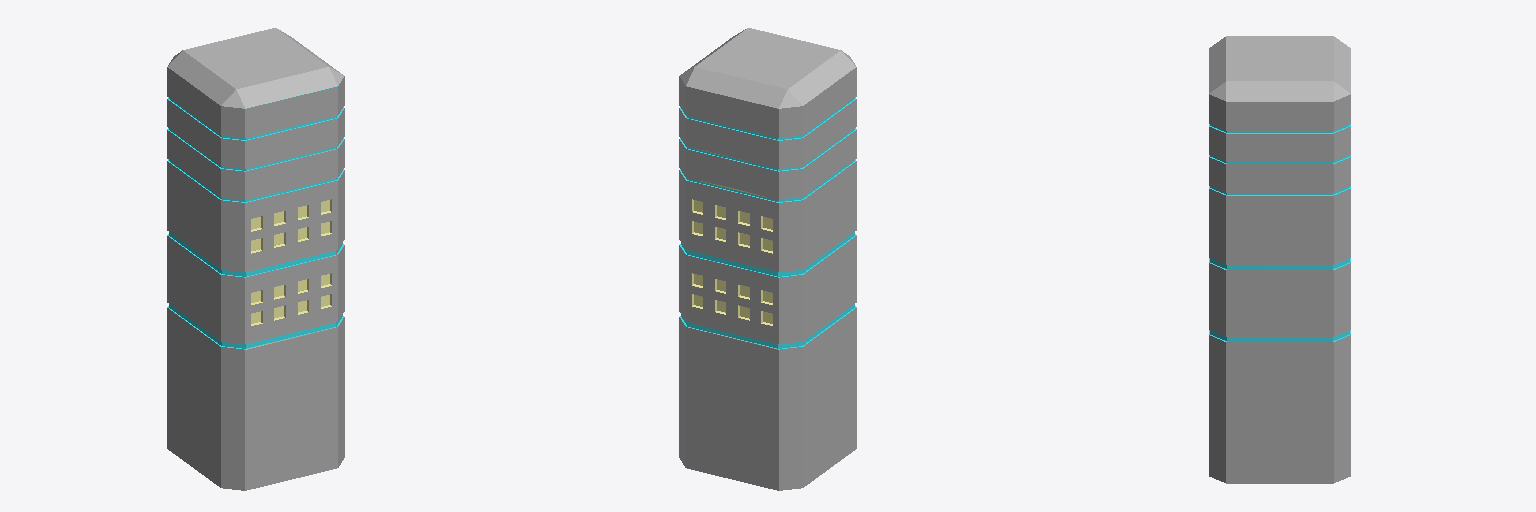
3 views of the same model, side by side, from view 1: azimuth 30°, elevation 25°; view 2: azimuth 150°, elevation 25°; view 3: azimuth 270°, elevation 25° (orthographic).
Parts seen in each view (by area): view 1: Cube; view 2: Cube; view 3: Cube.
Part boxes in pixels (bbox=[...]): Cube: bbox=[167, 28, 344, 490]; Cube: bbox=[679, 28, 856, 490]; Cube: bbox=[1209, 36, 1350, 483].
Size of the model in its own units: 10 by 30.5 by 10.
Materials: 1 (1 with a texture image).